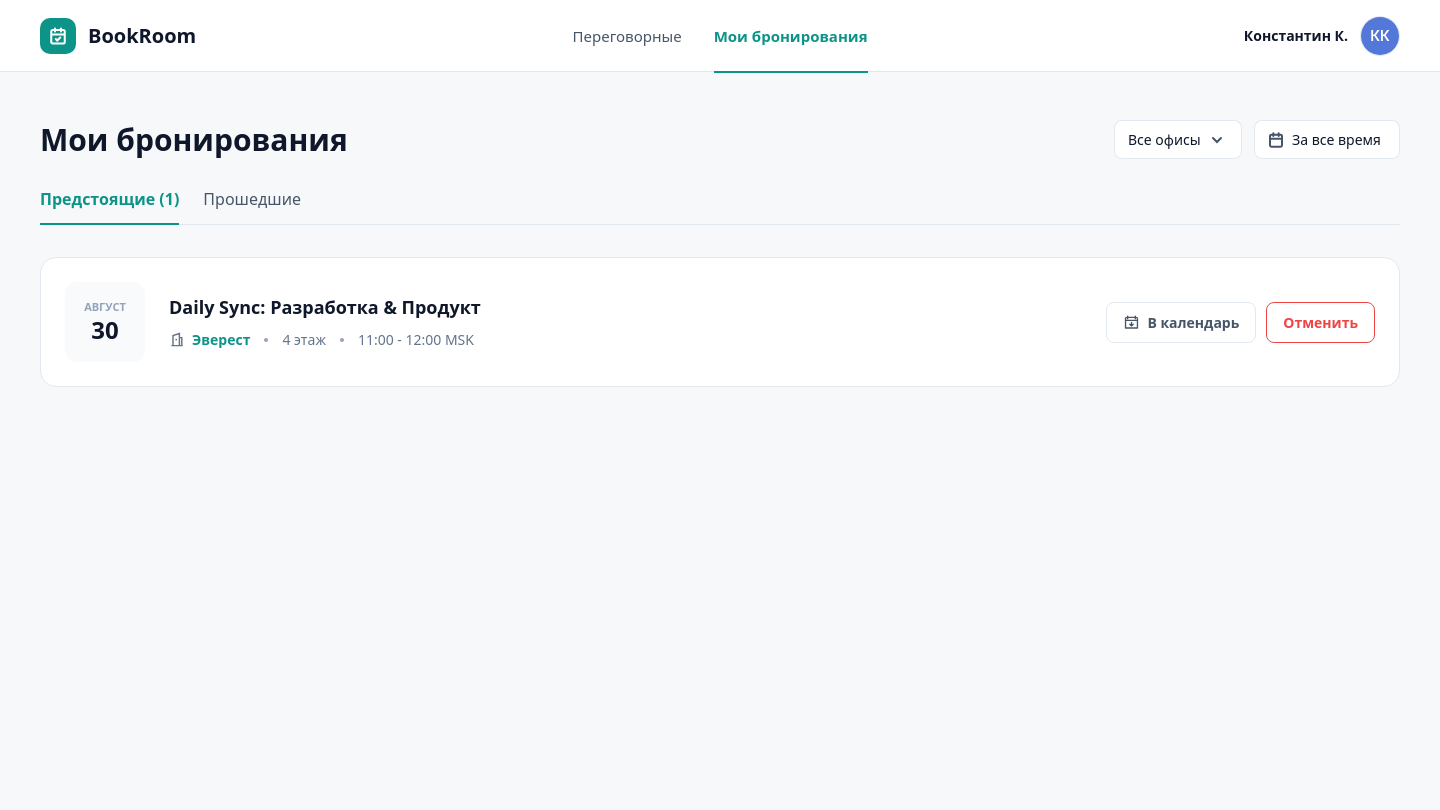
Test: BookingsPage › фильтрует запрос по офису и список по периоду
Check: the heading "Daily Sync: Разработка & Продукт" is shown, box 169,294 -> 481,318
Click the dropdown labelled "офис".
click(1178, 140)  # box 1114,120 -> 1242,159
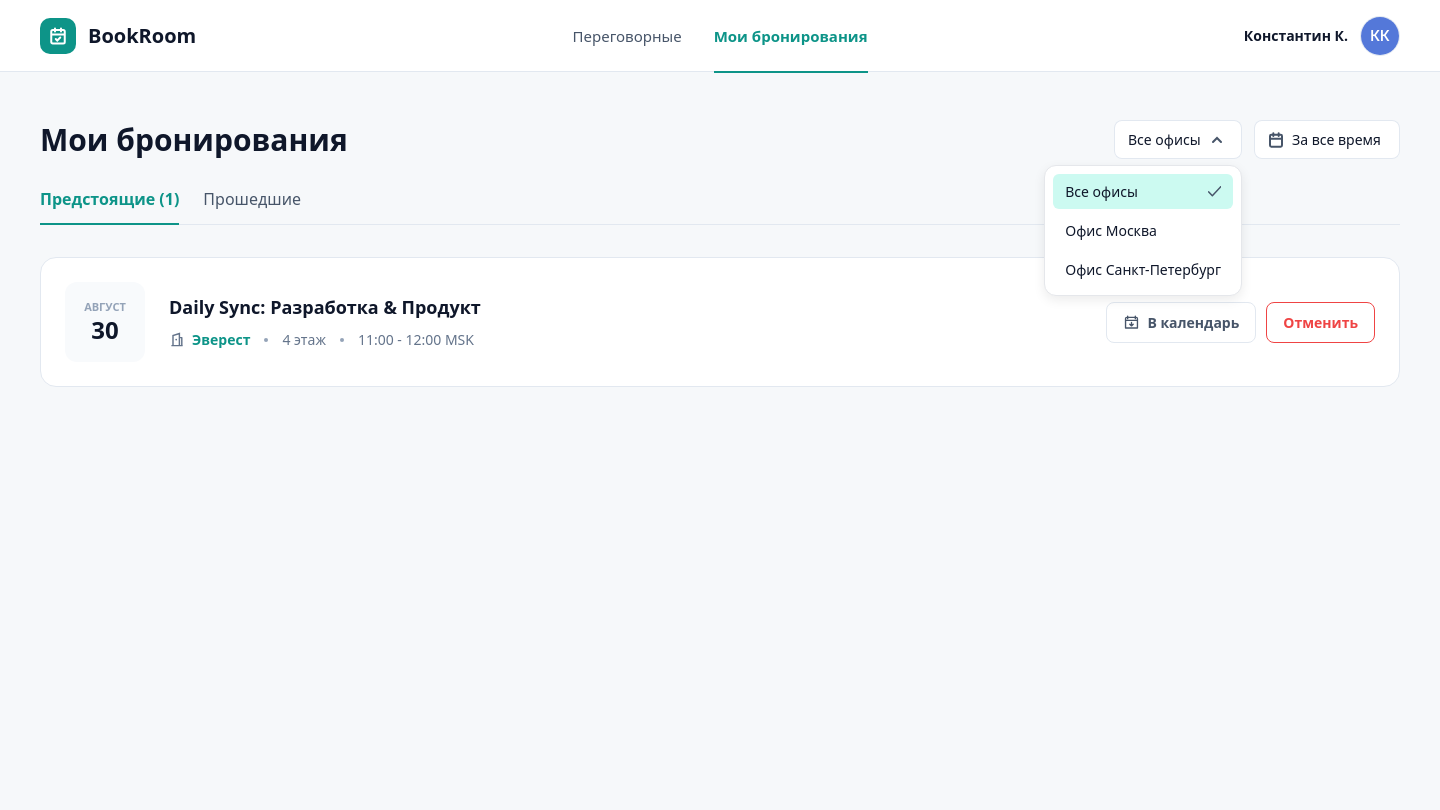
Click the option "Офис Санкт-Петербург".
click(1143, 270)  # box 1053,252 -> 1233,287
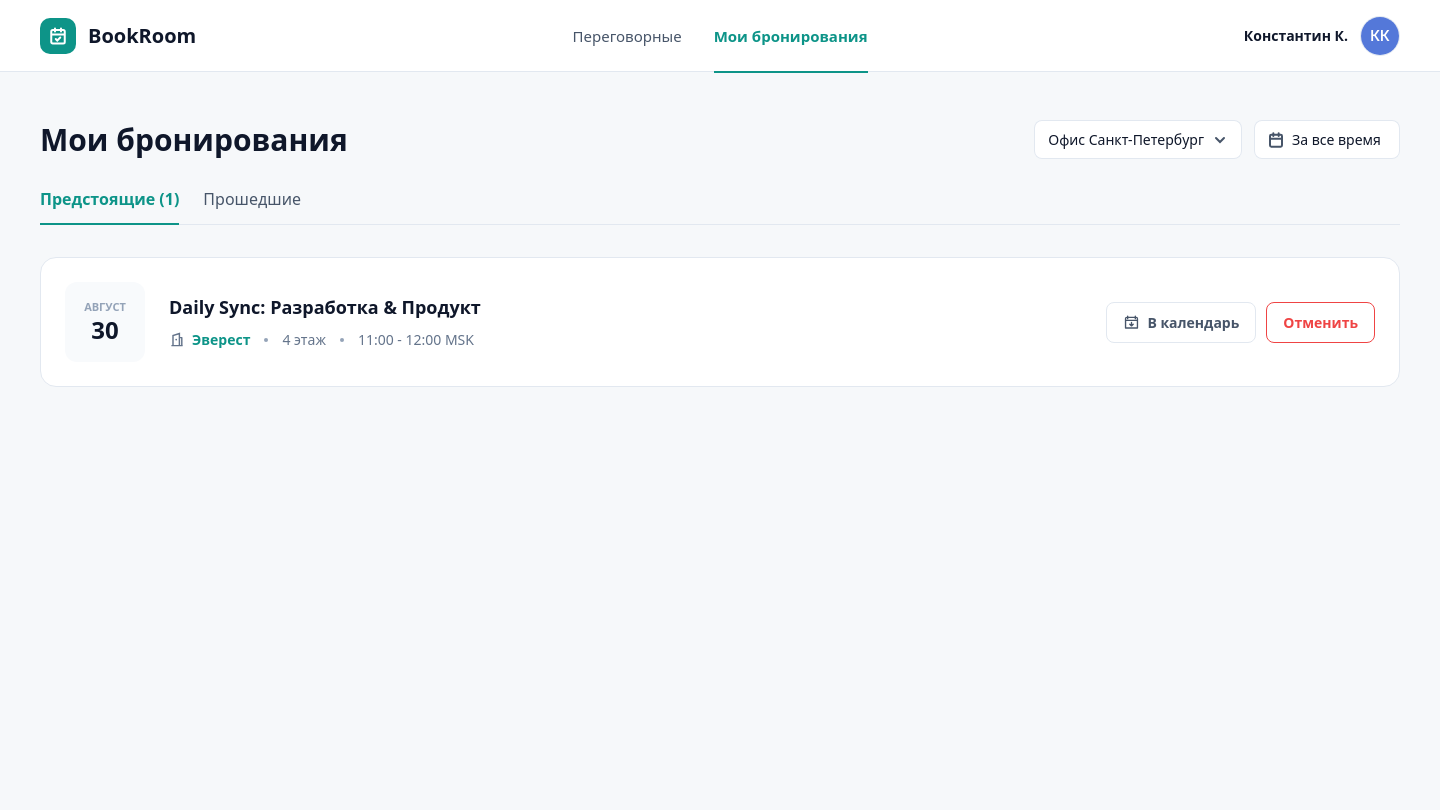
Click the dropdown named "Период".
click(1327, 140)  # box 1254,120 -> 1400,159
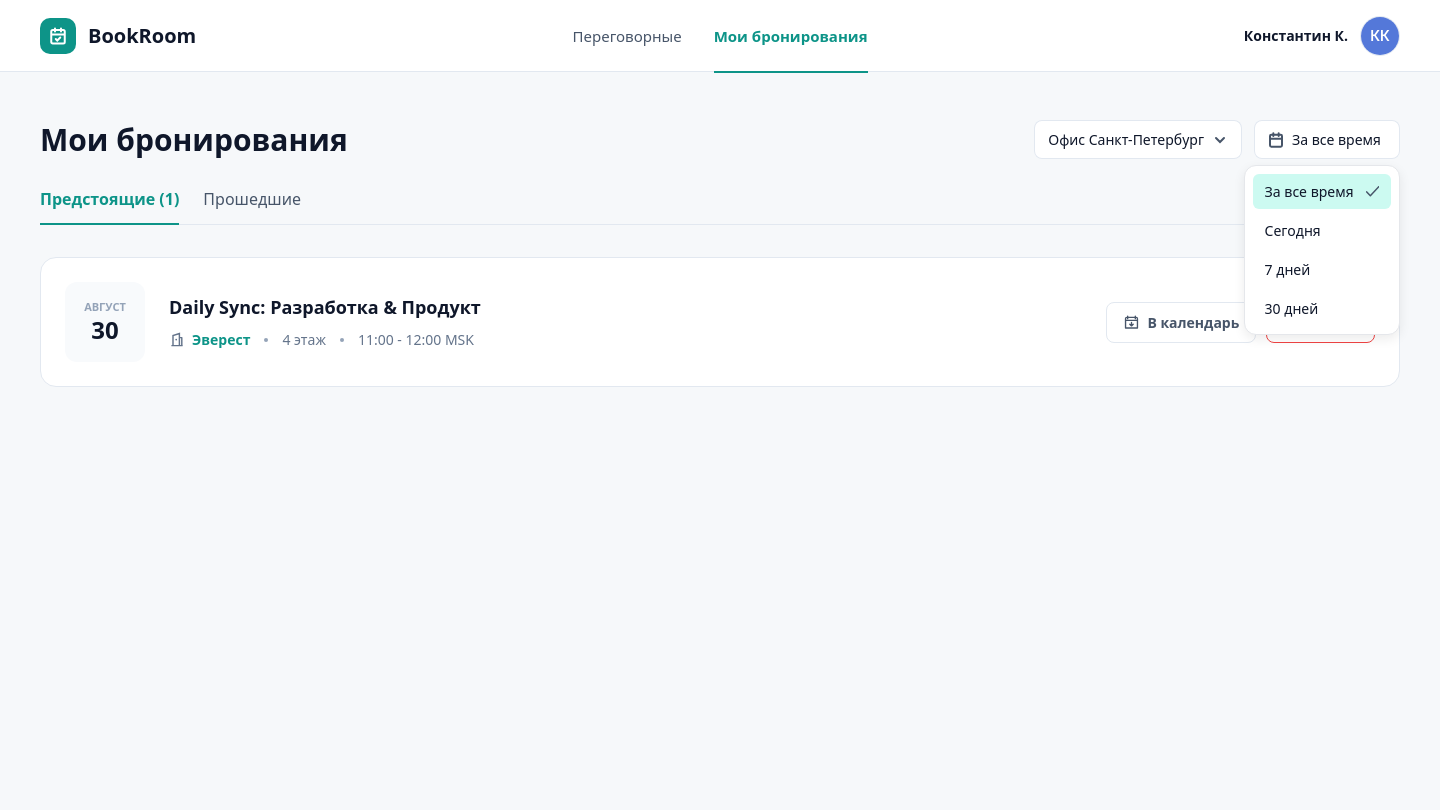
Click the option "Сегодня".
click(1322, 230)  # box 1253,213 -> 1391,248
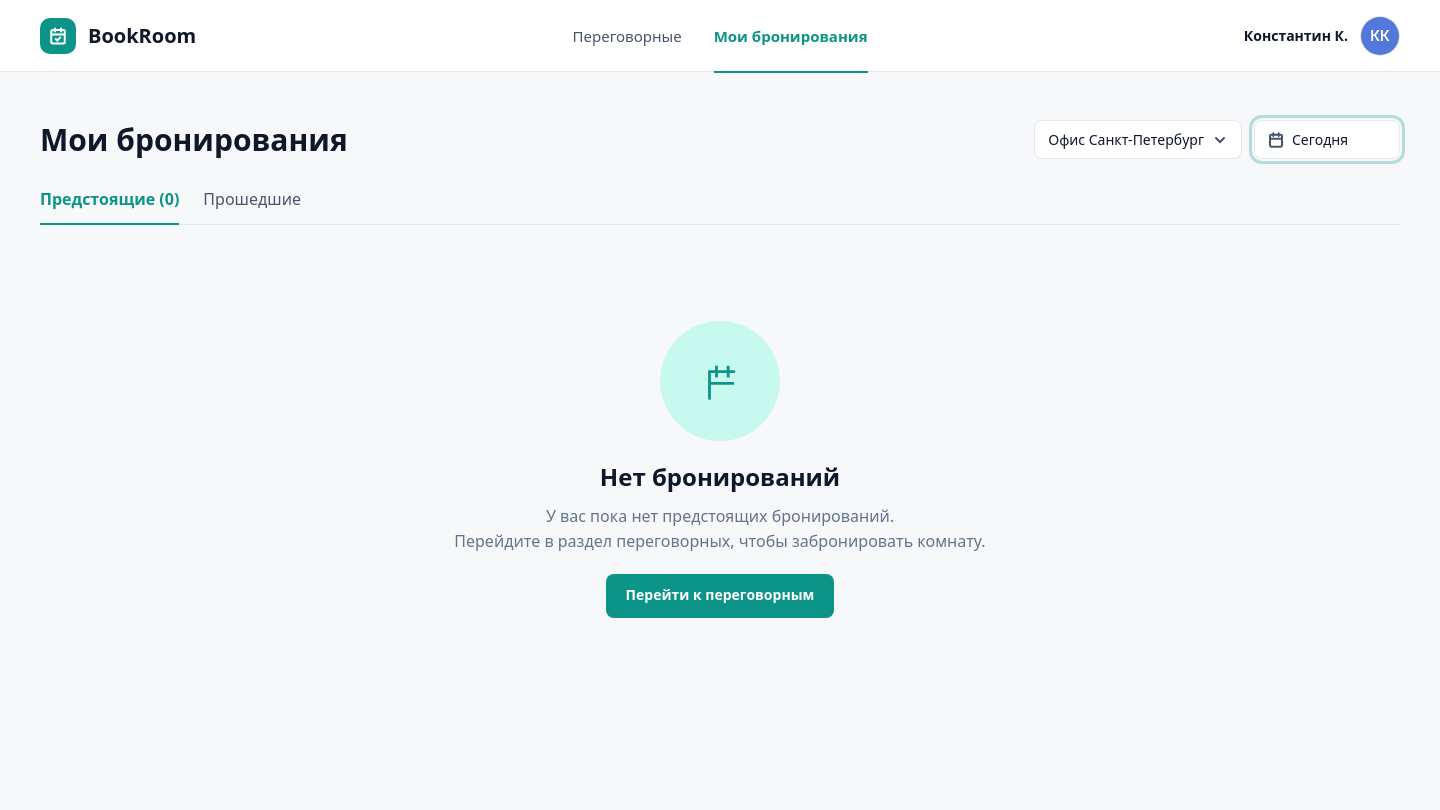
Check: the heading "Нет бронирований" is shown, box 600,461 -> 840,492
